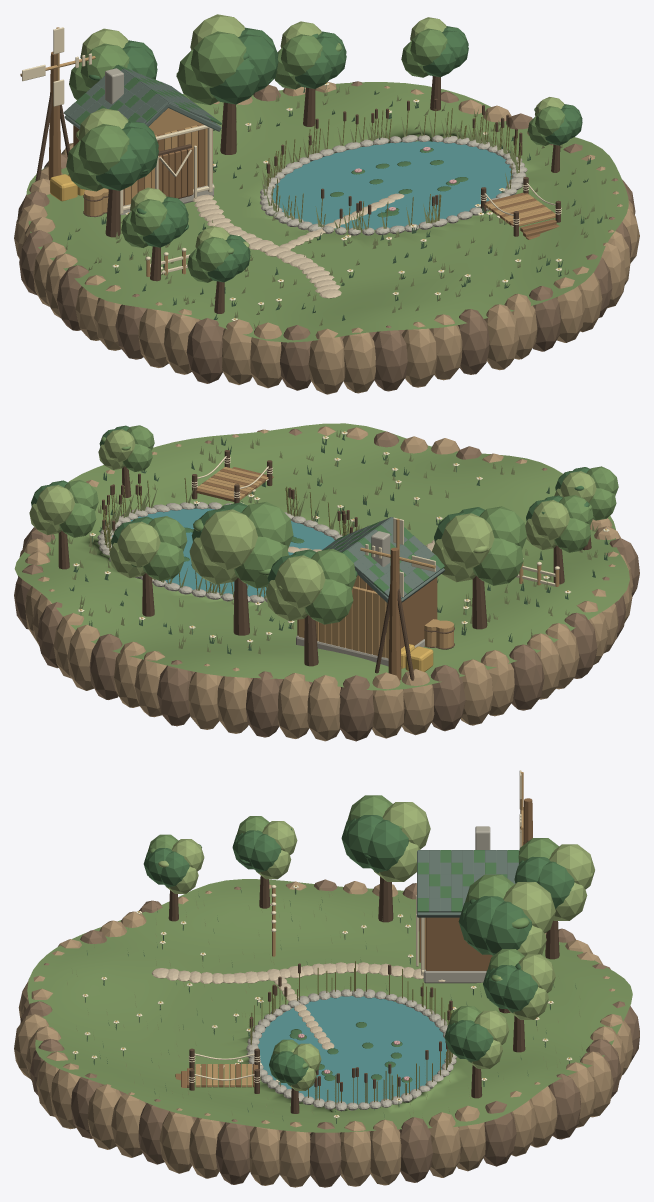
Rendered from farm-mpJNAriN.glb.
The picture shows the model from 3 angles, top to bottom: view 1: azimuth 30°, elevation 25°; view 2: azimuth 150°, elevation 25°; view 3: azimuth 270°, elevation 25°; orthographic projection.
Parts seen in each view (by area): view 1: Environment_grass, Environment_cliff, Environment_earth, Environment_leaf, Environment_leafdark, Lake_surface, Environment_wooddark, Environment_stone, Environment_wood, Environment_leaflight, Environment_grasslight, Environment_woodlight (+7 smaller); view 2: Environment_grass, Environment_cliff, Environment_leaflight, Environment_earth, Environment_leaf, Environment_wooddark, Environment_woodlight, Environment_wood, Environment_leafdark, Environment_stone, Environment_grasslight, Environment_roof (+6 smaller); view 3: Environment_grass, Environment_cliff, Environment_leafdark, Environment_earth, Lake_surface, Environment_leaflight, Environment_stone, Environment_leaf, Environment_wooddark, Environment_wood, Environment_path, Environment_roof (+5 smaller).
Part boxes in pixels (bbox=[...]): Environment_grass: bbox=[26, 82, 628, 342]; Environment_cliff: bbox=[14, 82, 639, 394]; Environment_earth: bbox=[17, 81, 635, 391]; Environment_leaf: bbox=[66, 28, 565, 282]; Environment_leafdark: bbox=[75, 26, 582, 282]; Lake_surface: bbox=[272, 141, 512, 229]; Environment_wooddark: bbox=[35, 76, 560, 313]; Environment_stone: bbox=[105, 68, 527, 235]; Environment_wood: bbox=[48, 51, 559, 239]; Environment_leaflight: bbox=[76, 14, 564, 248]; Environment_grasslight: bbox=[65, 86, 607, 328]; Environment_woodlight: bbox=[20, 27, 555, 276]; Environment_grass: bbox=[14, 423, 629, 690]; Environment_cliff: bbox=[18, 426, 633, 741]; Environment_leaflight: bbox=[29, 429, 596, 621]; Environment_earth: bbox=[14, 429, 639, 741]; Environment_leaf: bbox=[59, 425, 618, 624]; Environment_wooddark: bbox=[58, 450, 591, 680]; Environment_woodlight: bbox=[197, 467, 559, 658]; Environment_wood: bbox=[196, 467, 437, 680]; Environment_leafdark: bbox=[31, 425, 589, 594]; Environment_stone: bbox=[97, 502, 424, 666]; Environment_grasslight: bbox=[49, 430, 598, 654]; Environment_roof: bbox=[322, 517, 444, 602]; Environment_grass: bbox=[27, 879, 632, 1132]; Environment_cliff: bbox=[14, 881, 633, 1187]; Environment_leafdark: bbox=[143, 815, 574, 1085]; Environment_earth: bbox=[20, 879, 639, 1187]; Lake_surface: bbox=[257, 996, 446, 1104]; Environment_leaflight: bbox=[158, 802, 594, 1090]; Environment_stone: bbox=[246, 826, 490, 1111]; Environment_leaf: bbox=[147, 795, 558, 1068]; Environment_wooddark: bbox=[168, 840, 559, 1113]; Environment_wood: bbox=[175, 798, 532, 1087]; Environment_path: bbox=[151, 962, 445, 1049]; Environment_roof: bbox=[417, 850, 518, 917].
Size of the model in its own units: 20.28 by 7.7 by 20.67.
